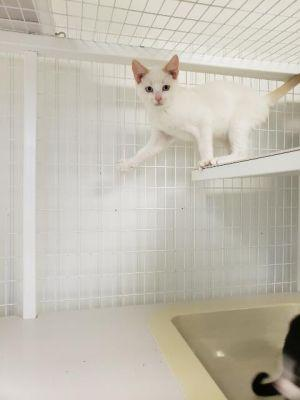siamese: (127, 52, 187, 117)
